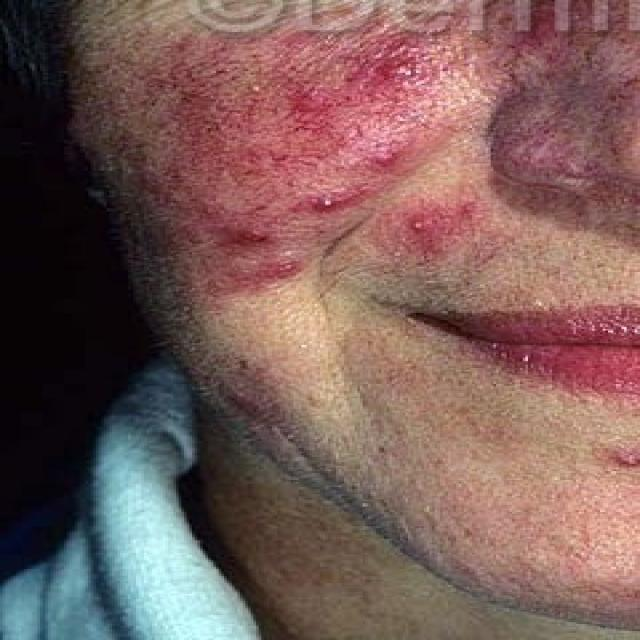Rosacea: (169, 44, 435, 296)
